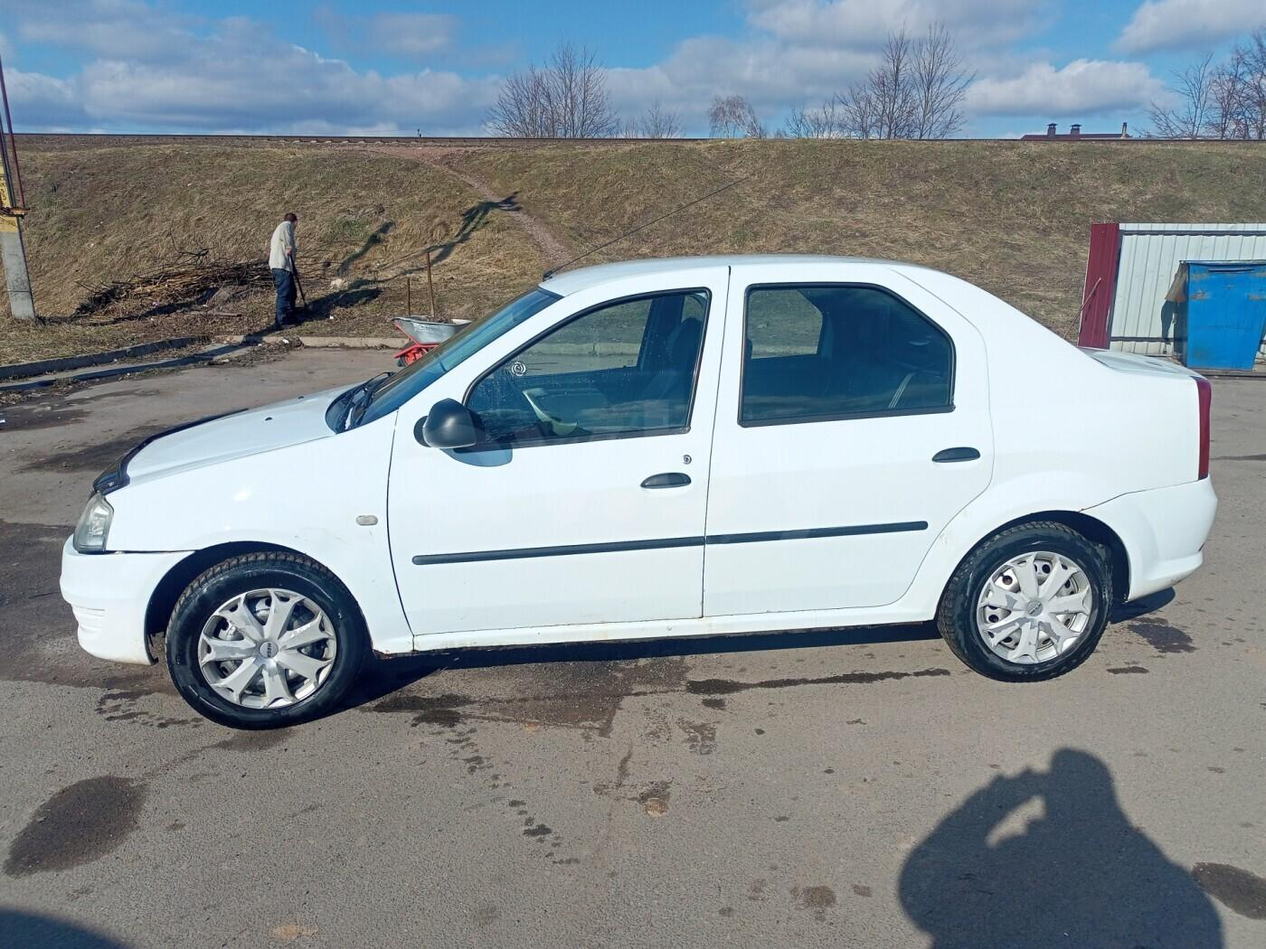Logan_2008-2015: (56, 261, 1221, 732)
